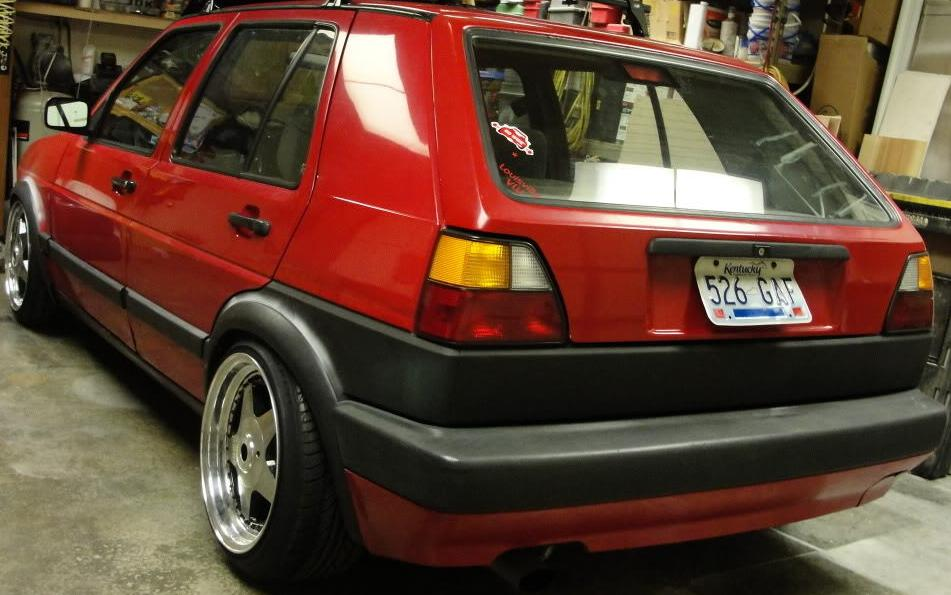back_view: (375, 173, 933, 530)
backlight: (402, 200, 593, 362)
side_glass: (102, 13, 321, 190)
